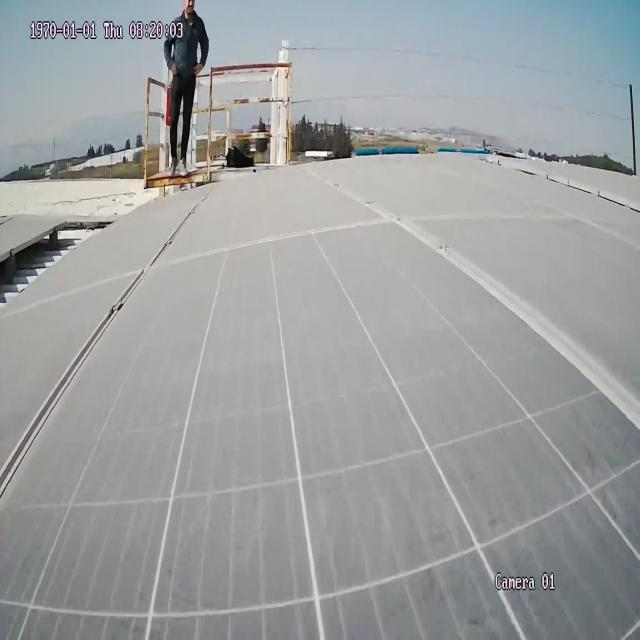interior panel: (324, 176, 640, 450), (0, 182, 224, 524)
outher panel: (0, 215, 111, 316)
